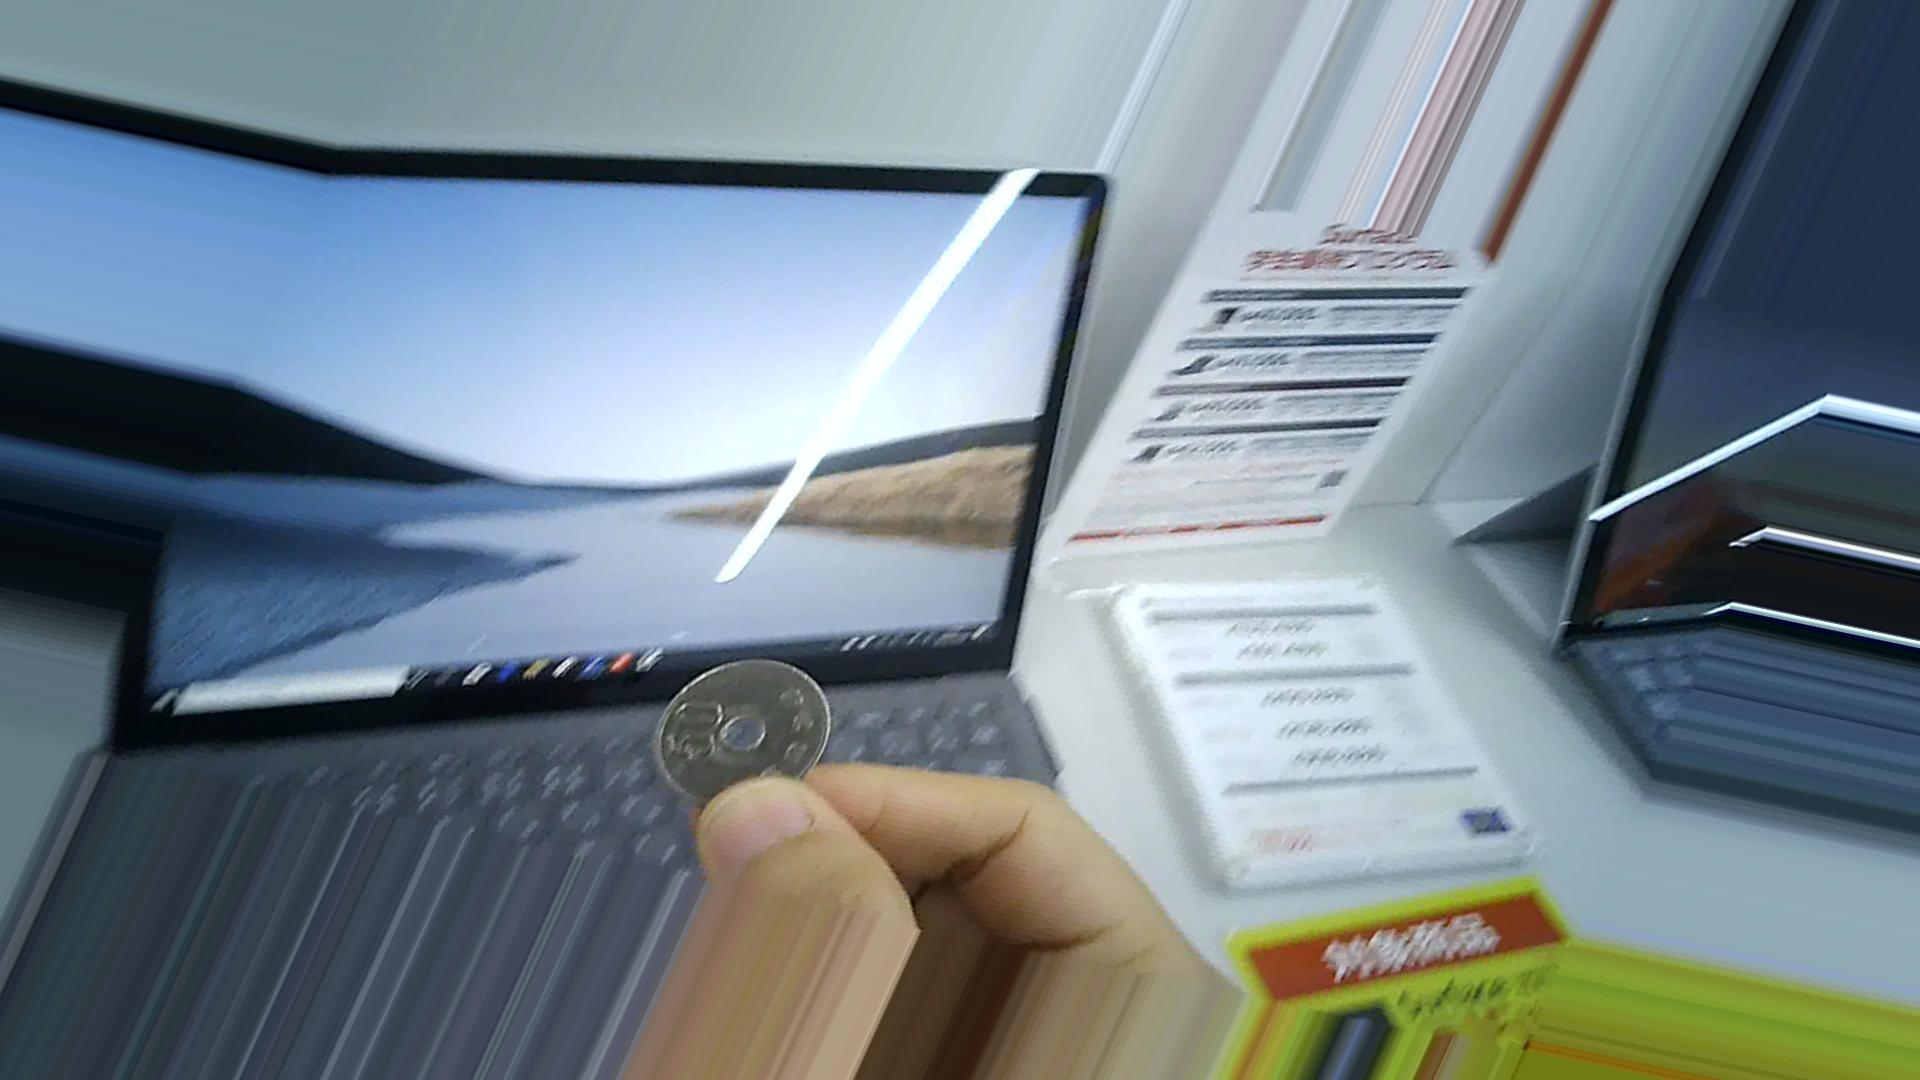50 Yen: (653, 651, 833, 812)
